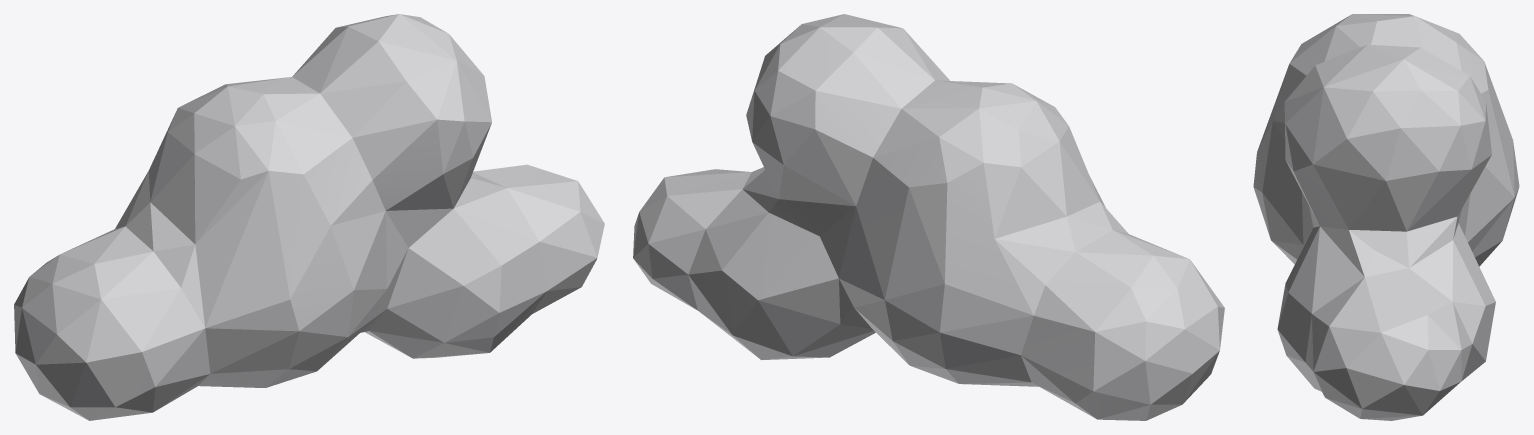
Rendered from small_cloud_18.fbx.
The picture shows the model from 3 angles, left to right: view 1: azimuth 30°, elevation 25°; view 2: azimuth 150°, elevation 25°; view 3: azimuth 270°, elevation 25°; orthographic projection. The views are drawn at different scales.
Parts seen in each view (by area): view 1: cloud_18; view 2: cloud_18; view 3: cloud_18.
Part boxes in pixels (x1=…): cloud_18: x1=14, y1=14, x2=604, y2=420; cloud_18: x1=633, y1=14, x2=1224, y2=420; cloud_18: x1=1253, y1=14, x2=1519, y2=420.
Bounding box in the file's own units: 372 × 211 × 155.
